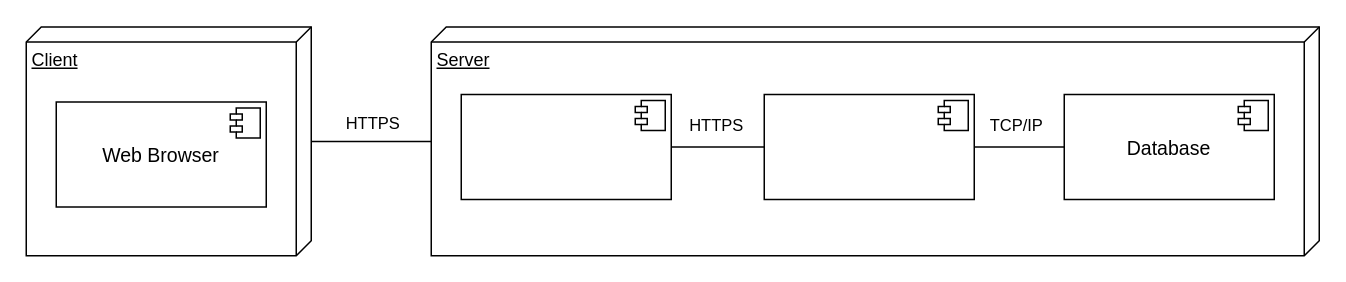
This 1346x282 diagram has some shape labels left out. Here are the shapes that lost their labels. From the top down, the centre of each, then its label:
At pixel 565 146: "Explanation APP".
At pixel 868 146: "Explanation API".
